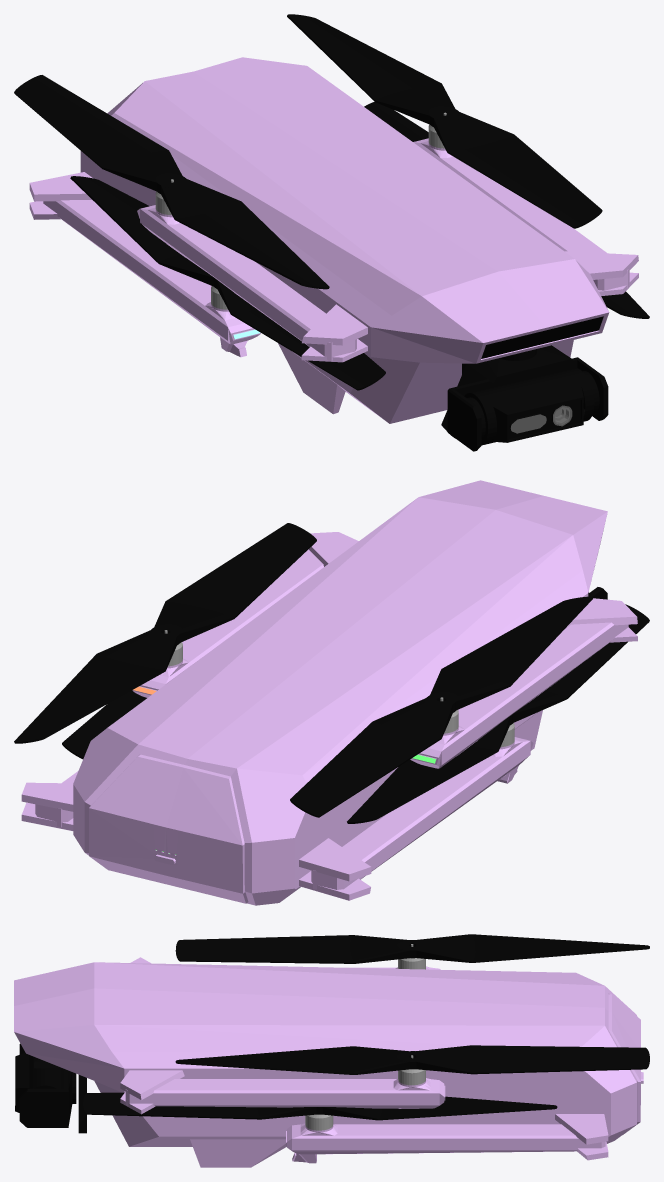
File: BJI-mini2.fbx
3 views of the same model, one above another, from view 1: azimuth 30°, elevation 25°; view 2: azimuth 150°, elevation 25°; view 3: azimuth 270°, elevation 25° (orthographic). The views are drawn at different scales.
Parts seen in each view (by area): view 1: aircraft, prop, prop.003, ARM-RF, gimbalp, ARM-RR, prop.002, ARM-LF, gimbalroll, ginbal, prop.001; view 2: aircraft, battery, prop, prop.003, ARM-RR, ARM-RF, prop.002, ARM-LF, prop.001, ARM-LR; view 3: aircraft, prop, prop.003, ARM-LR, ARM-LF, prop.001, gimbalroll, battery, gimbalp, ginbal, MOTOR.001, MOTOR.
Boxes of the visible parts, <box> form: aircraft: <box>29,57,638,423</box>; prop: <box>287,14,602,228</box>; prop.003: <box>14,75,329,289</box>; ARM-RF: <box>137,205,356,360</box>; gimbalp: <box>464,368,599,445</box>; ARM-RR: <box>43,200,260,357</box>; prop.002: <box>70,176,385,390</box>; ARM-LF: <box>413,138,629,290</box>; gimbalroll: <box>447,357,608,451</box>; ginbal: <box>441,345,574,438</box>; prop.001: <box>364,101,649,318</box>; aircraft: <box>21,480,637,905</box>; battery: <box>89,754,248,903</box>; prop: <box>14,523,316,743</box>; prop.003: <box>290,596,592,817</box>; ARM-RR: <box>311,737,533,889</box>; ARM-RF: <box>410,622,628,768</box>; prop.002: <box>347,604,649,823</box>; ARM-LF: <box>132,549,323,697</box>; prop.001: <box>62,690,146,759</box>; ARM-LR: <box>35,771,78,827</box>; aircraft: <box>14,957,637,1167</box>; prop: <box>175,1045,649,1074</box>; prop.003: <box>175,934,649,963</box>; ARM-LR: <box>286,1123,605,1163</box>; ARM-LF: <box>125,1078,445,1108</box>; prop.001: <box>83,1092,557,1120</box>; gimbalroll: <box>19,1043,76,1127</box>; battery: <box>608,994,643,1134</box>; gimbalp: <box>15,1052,63,1112</box>; ginbal: <box>34,1057,86,1133</box>; MOTOR.001: <box>305,1114,333,1130</box>; MOTOR: <box>398,1055,425,1085</box>.
Size of the model in its own units: 911 by 420 by 1750.
